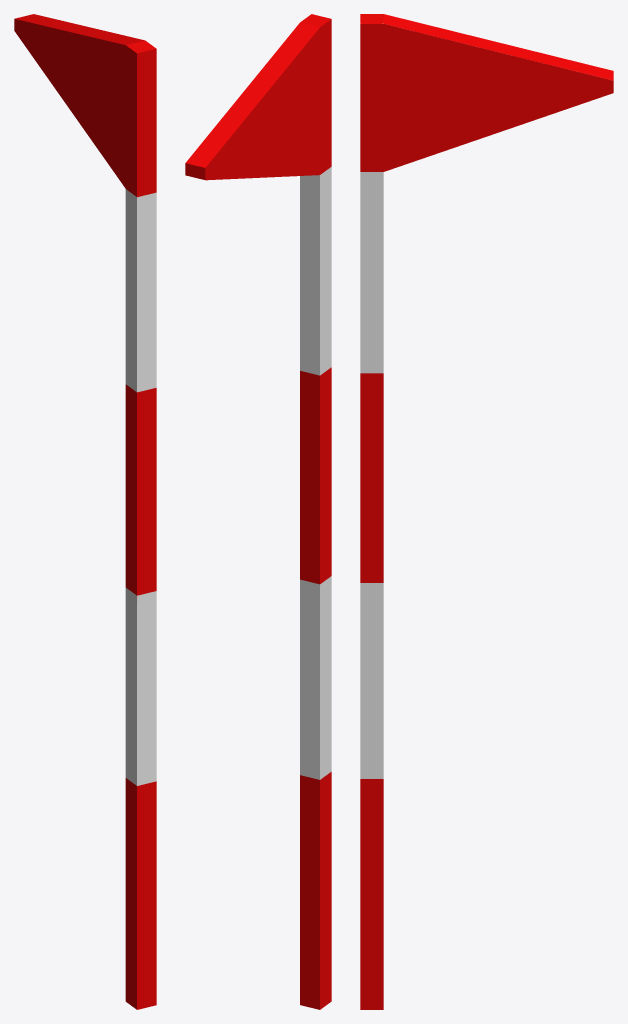
File: flag.fbx
3 views of the same model, side by side, from view 1: azimuth 30°, elevation 25°; view 2: azimuth 150°, elevation 25°; view 3: azimuth 270°, elevation 25° (orthographic). The views are drawn at different scales.
Visible parts, largest first — view 1: Cube; view 2: Cube; view 3: Cube.
Part boxes in pixels (left/top/right/bottom): Cube: left=14, top=14, right=156, bottom=1009; Cube: left=185, top=14, right=331, bottom=1009; Cube: left=360, top=14, right=613, bottom=1009.
Size of the model in its own units: 29.17 by 1361 by 317.
Materials: 1 (1 with a texture image).
